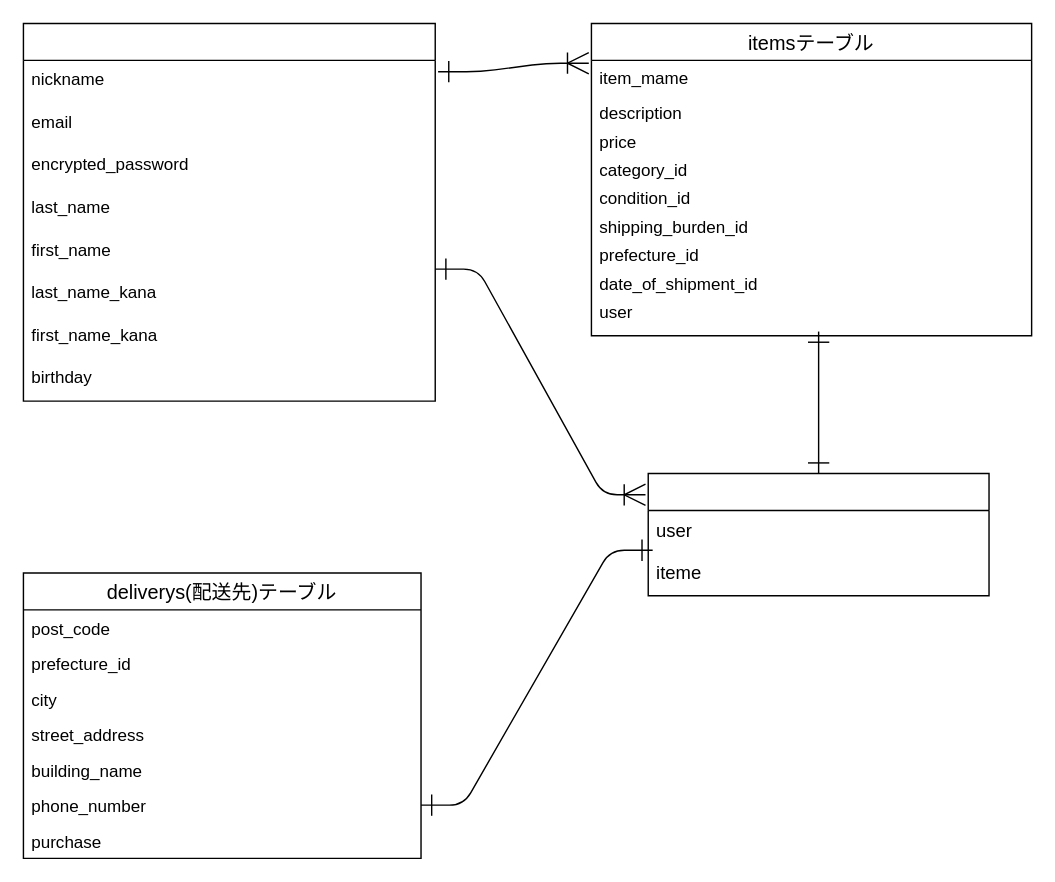
This 1055x882 diagram has some shape labels left out. Each missing label, with the box of its shape:
purchases(購入記録)テーブル: (647, 472, 989, 596)
users テーブル: (22, 22, 435, 401)
